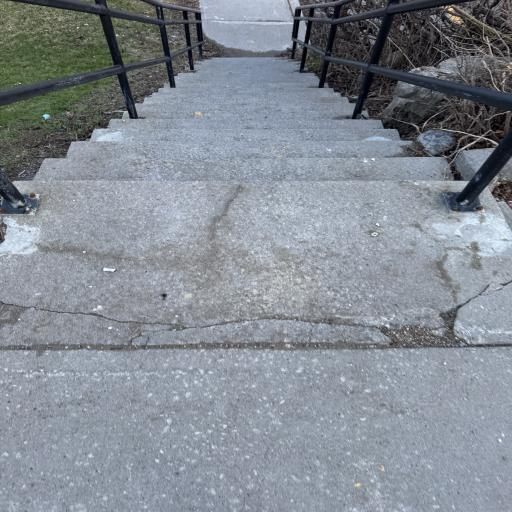Stairs: (0, 2, 512, 512), (0, 58, 512, 345)
